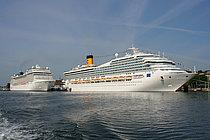Ship: (62, 45, 202, 94), (7, 63, 58, 94)
